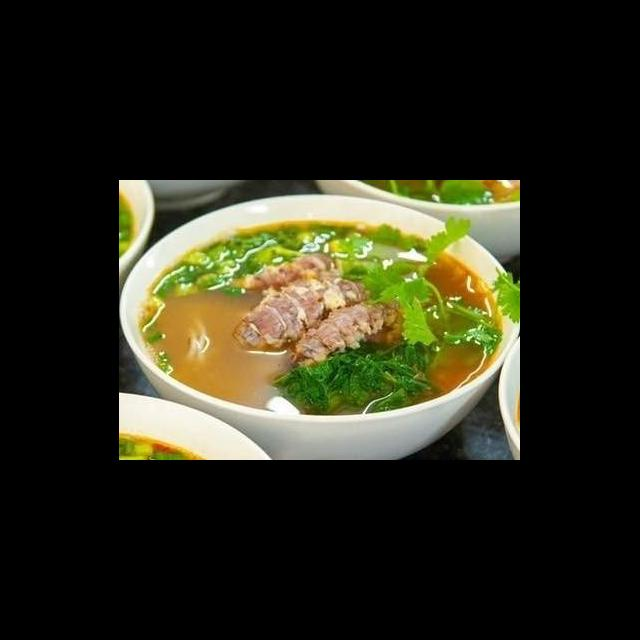tom tit: (230, 270, 380, 355), (282, 297, 408, 375), (230, 249, 344, 300)
